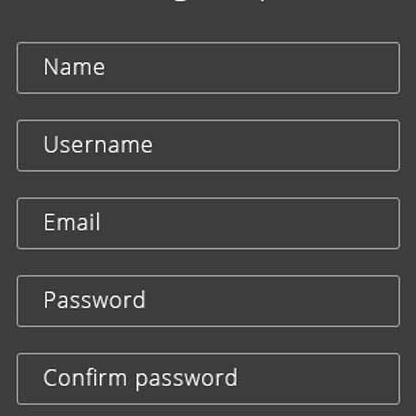field: (13, 116, 403, 174), (12, 195, 405, 252), (13, 350, 404, 407), (15, 273, 402, 330), (14, 40, 402, 96)
